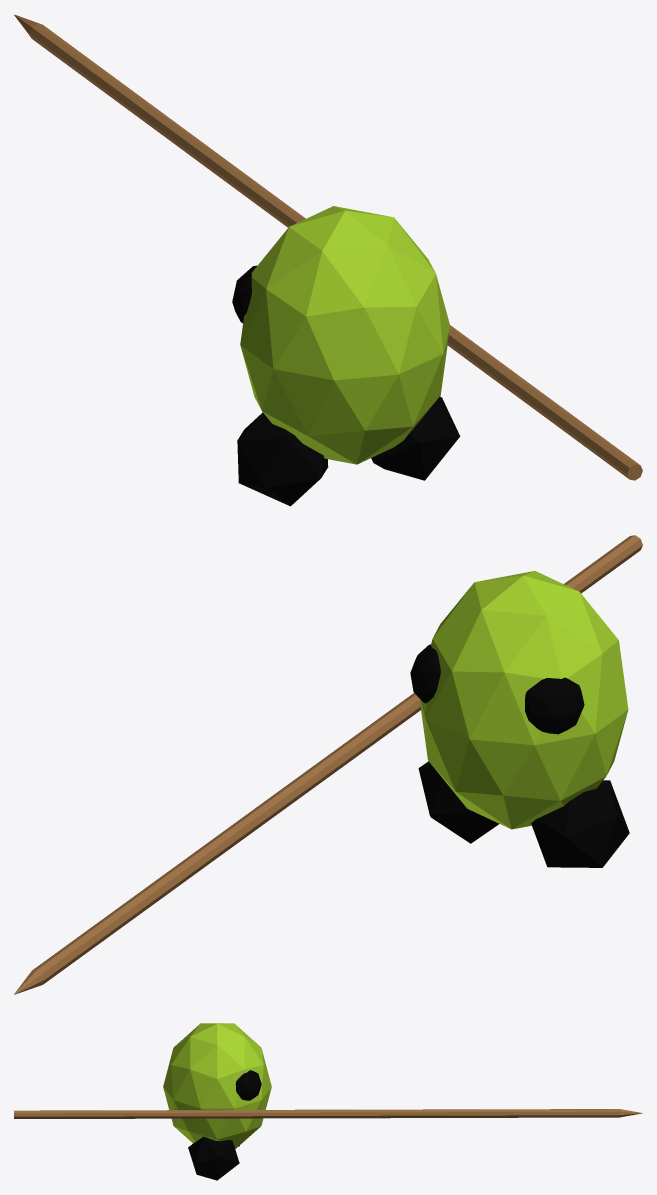
The model's file is walk.f0003.glb.
The picture shows the model from 3 angles, top to bottom: view 1: azimuth 30°, elevation 25°; view 2: azimuth 150°, elevation 25°; view 3: azimuth 270°, elevation 25°; orthographic projection. The views are drawn at different scales.
Visible parts, largest first — view 1: Body.001; view 2: Body.001; view 3: Body.001.
Boxes of the visible parts, bbox=[...] form: Body.001: bbox=[14, 14, 642, 506]; Body.001: bbox=[14, 535, 642, 994]; Body.001: bbox=[14, 1023, 642, 1180].
Bounding box in the file's own units: 2.17 × 2.86 × 11.56.
1 material, 1 textured.
